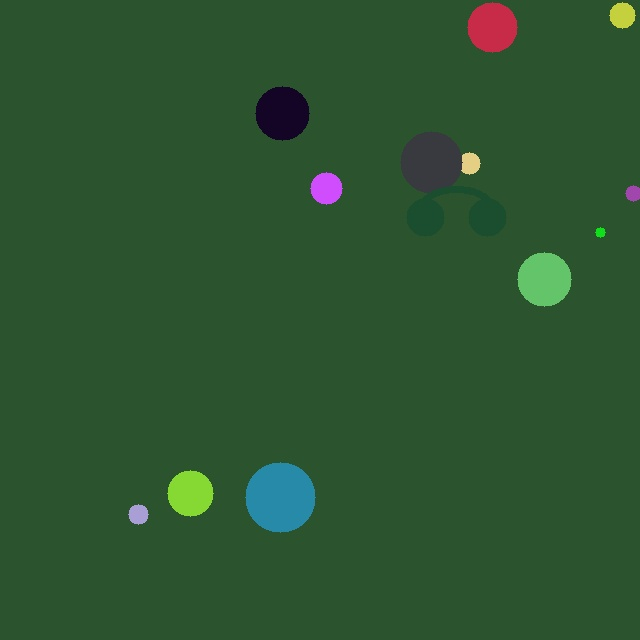over_ear: (402, 175, 510, 240)
